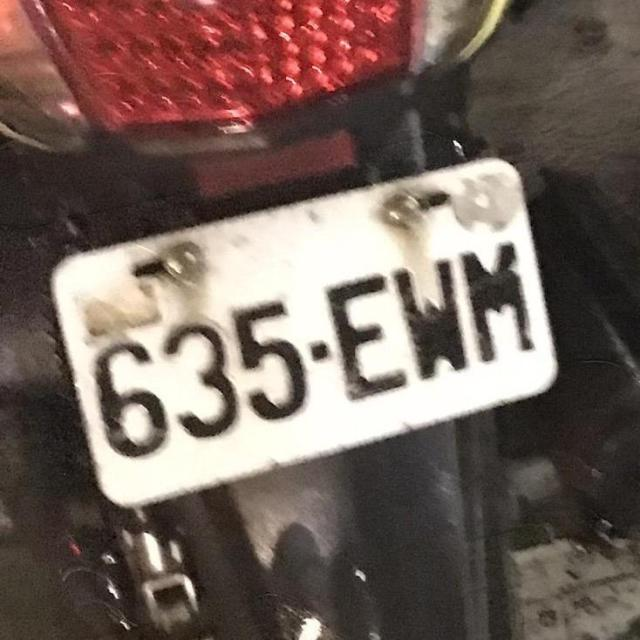W: (44, 150, 566, 513)
